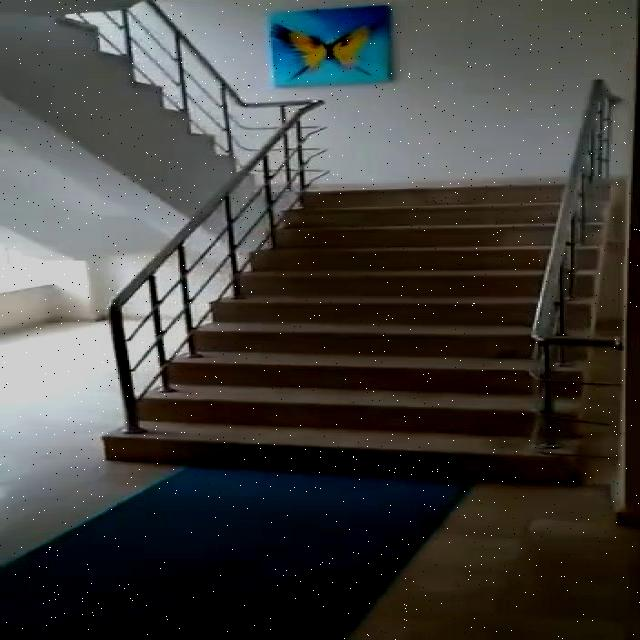stairs: (102, 181, 607, 482)
